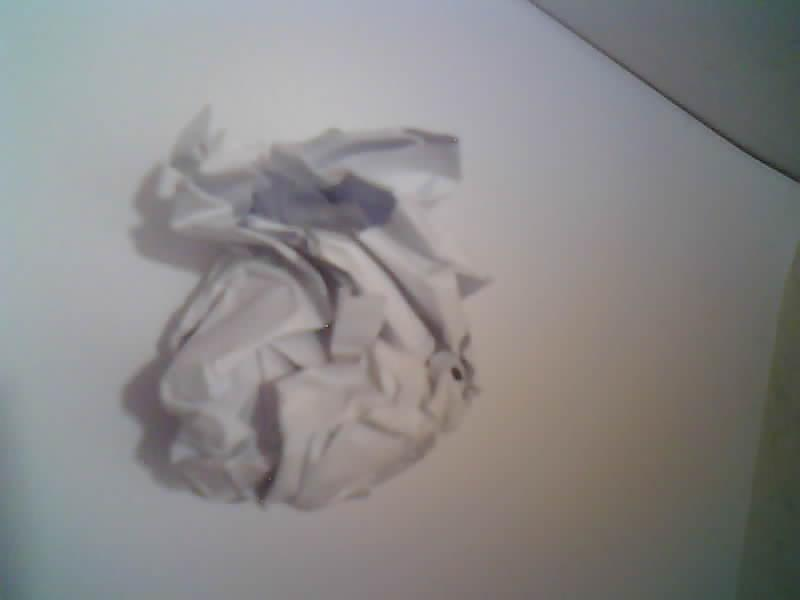biodegradable: (160, 110, 484, 509)
